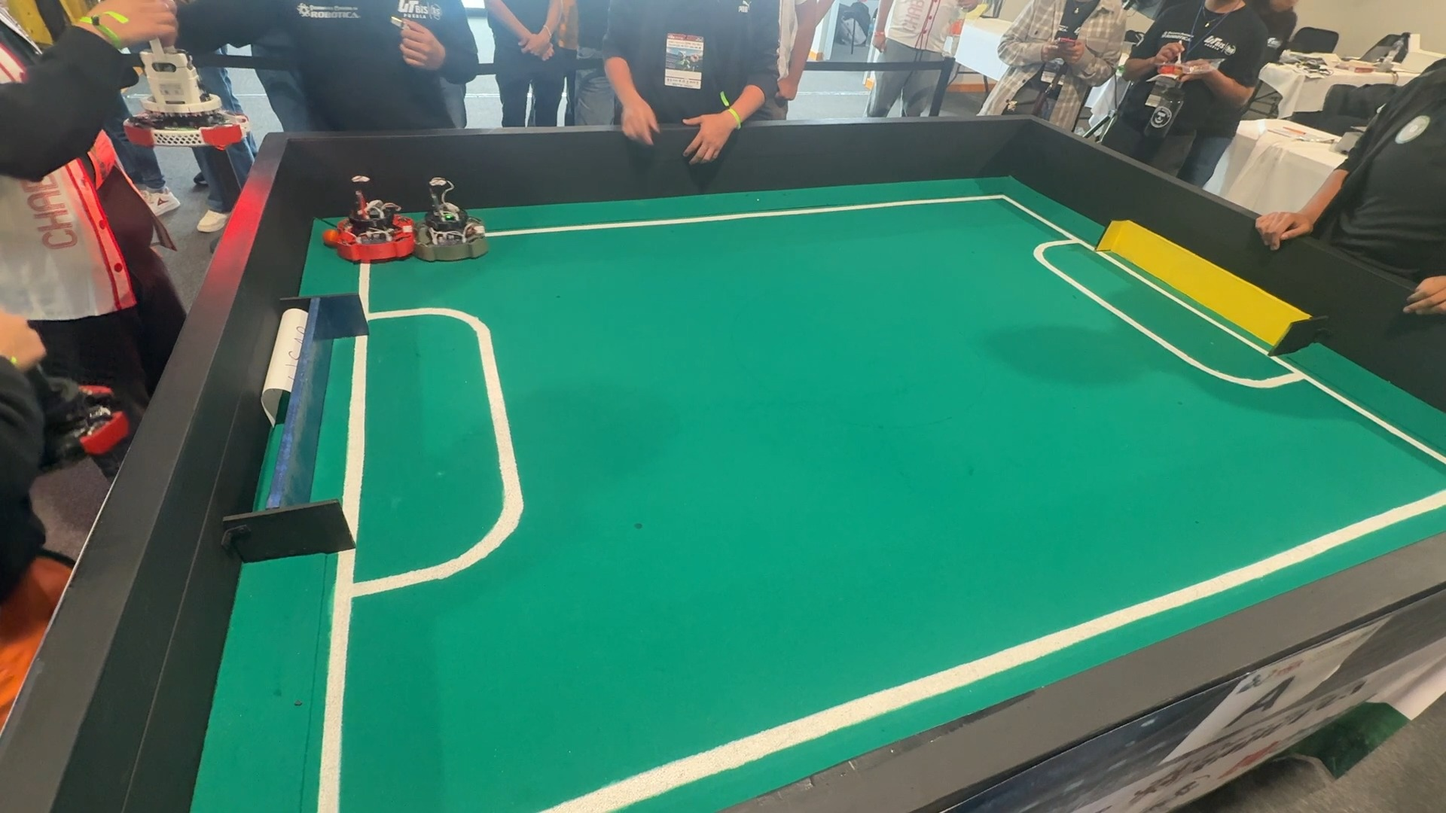Robot: (420, 172, 498, 268), (326, 185, 414, 264)
